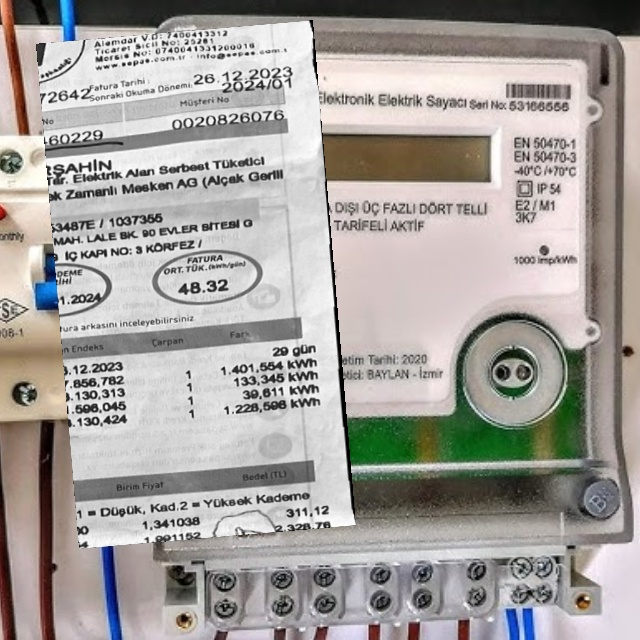electricity-bill: (36, 20, 356, 548)
